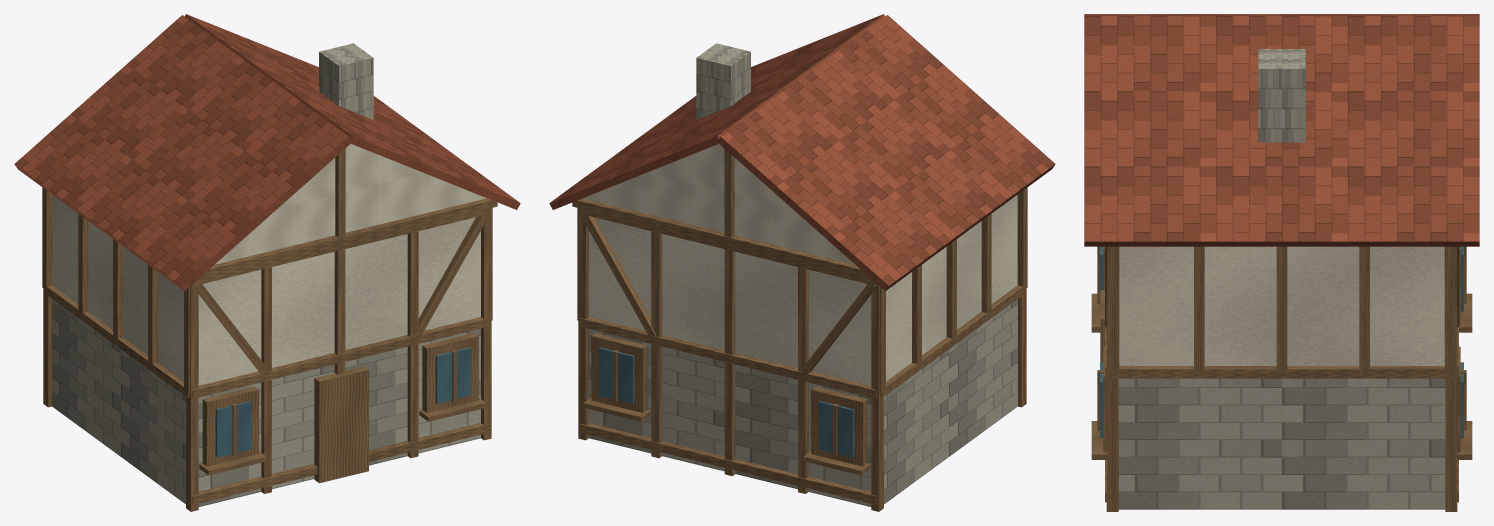
3 views of the same model, side by side, from view 1: azimuth 30°, elevation 25°; view 2: azimuth 150°, elevation 25°; view 3: azimuth 270°, elevation 25° (orthographic). The views are drawn at different scales.
Visible parts, largest first — view 1: house-roof, house-wood, house-plaster, house-stone, house-glass; view 2: house-roof, house-plaster, house-wood, house-stone, house-glass; view 3: house-roof, house-stone, house-plaster, house-wood, house-glass.
Boxes of the visible parts, x1,y1,x2,y2 form: house-roof: [14, 14, 520, 291]; house-wood: [42, 148, 497, 511]; house-plaster: [52, 144, 486, 385]; house-stone: [52, 43, 480, 506]; house-glass: [215, 347, 471, 457]; house-roof: [549, 14, 1055, 291]; house-plaster: [583, 144, 1017, 385]; house-wood: [572, 148, 1027, 511]; house-stone: [589, 43, 1017, 506]; house-glass: [598, 347, 854, 457]; house-roof: [1084, 14, 1479, 246]; house-stone: [1118, 49, 1445, 509]; house-plaster: [1119, 246, 1444, 365]; house-wood: [1091, 246, 1472, 511]; house-glass: [1100, 246, 1463, 438].
Bounding box in the file's own units: 7.88 × 7.7 × 6.7.
Materials: 5 (5 with a texture image).
